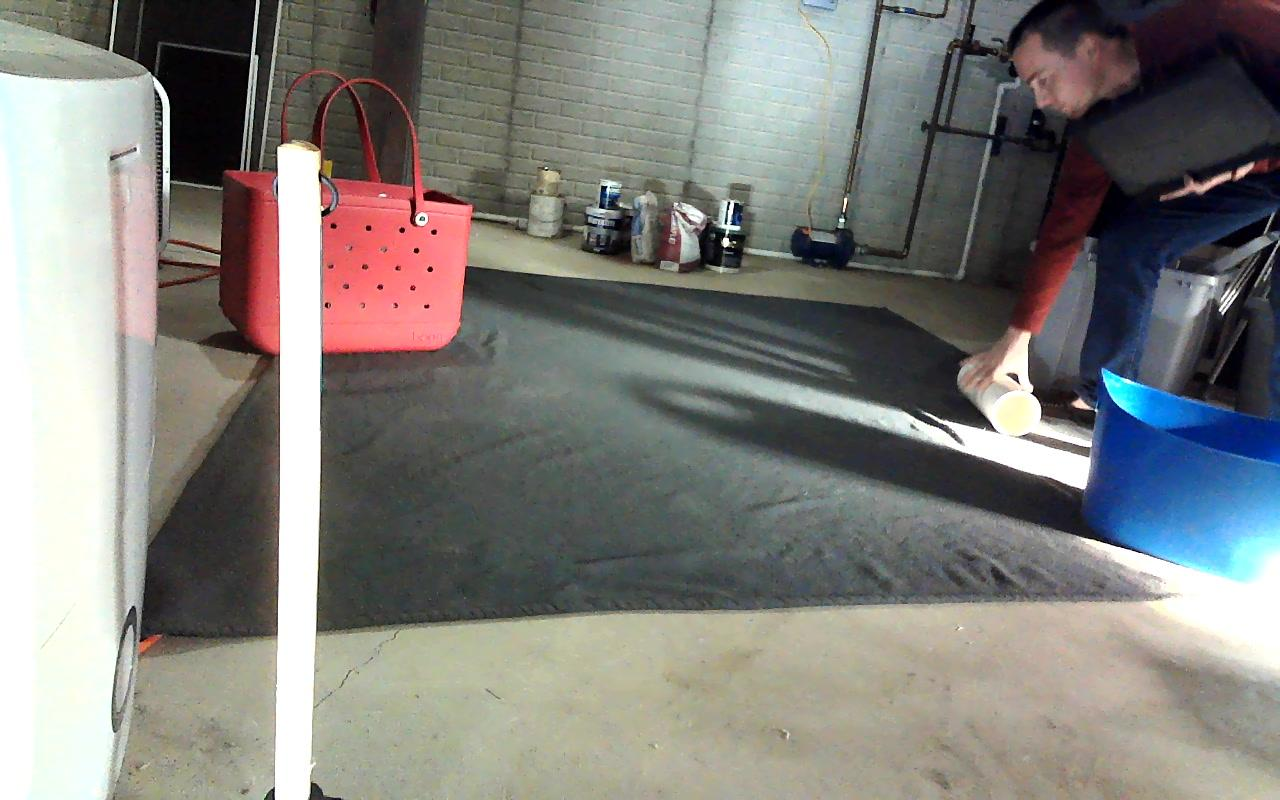coral: (955, 359, 1041, 434)
